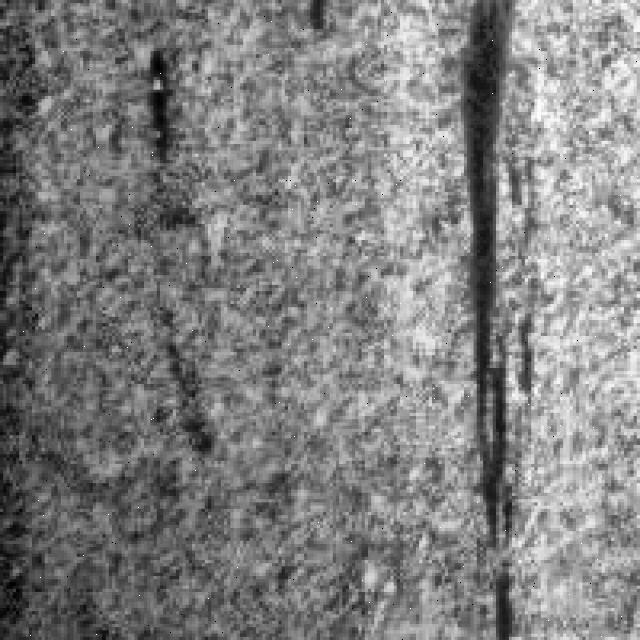Patches: (445, 0, 544, 570), (134, 39, 186, 170)
